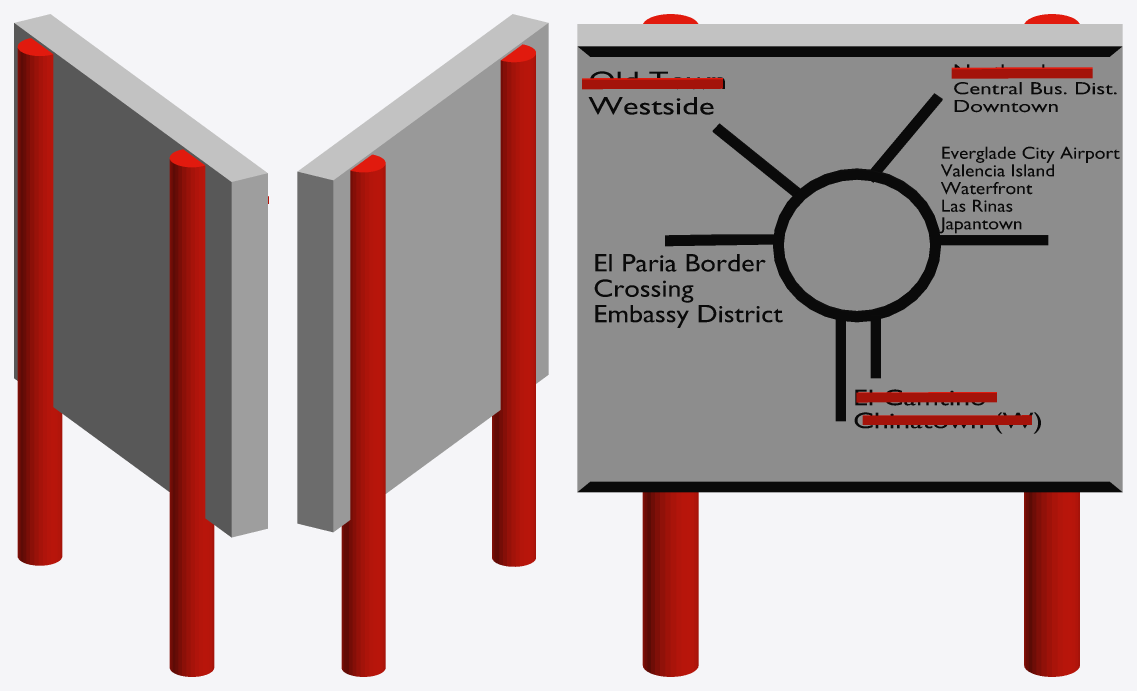
The model's file is el_celebracion_roundabout_sign_5.fbx.
The picture shows the model from 3 angles, left to right: view 1: azimuth 30°, elevation 25°; view 2: azimuth 150°, elevation 25°; view 3: azimuth 270°, elevation 25°; orthographic projection. The views are drawn at different scales.
Visible parts, largest first — view 1: el_celebracion_roundabout_sign_5; view 2: el_celebracion_roundabout_sign_5; view 3: el_celebracion_roundabout_sign_5.
Part boxes in pixels (x1,y1,x2,y2): el_celebracion_roundabout_sign_5: (14, 14, 268, 676); el_celebracion_roundabout_sign_5: (297, 14, 548, 676); el_celebracion_roundabout_sign_5: (577, 14, 1122, 676).
Bounding box in the file's own units: 6.5 × 50.59 × 38.93.
